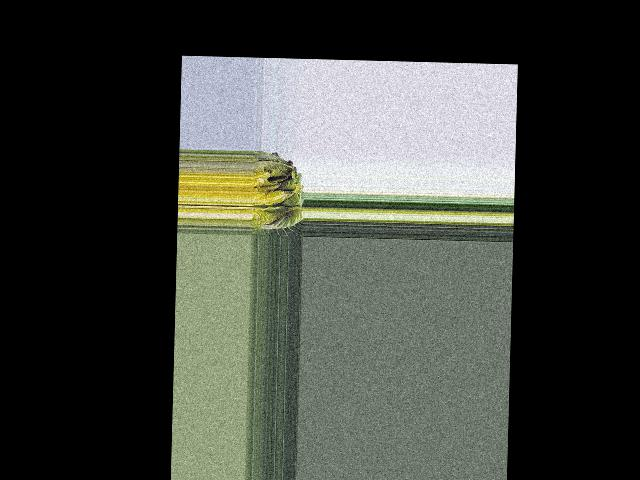lettuce: (250, 153, 303, 236)
